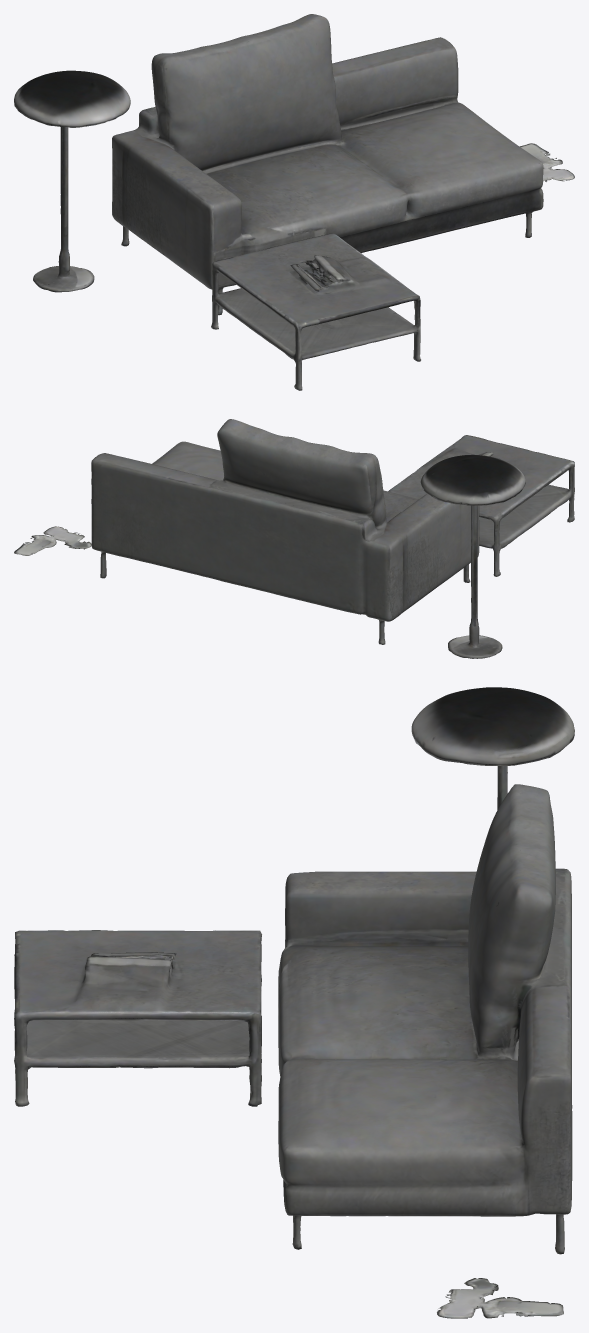
3 renders of one model, top to bottom at view 1: azimuth 30°, elevation 25°; view 2: azimuth 150°, elevation 25°; view 3: azimuth 270°, elevation 25°, orthographic. The views are drawn at different scales.
Bounding box in the file's own units: 2.02 × 0.7193 × 1.29.
Materials: 1 (1 with a texture image).
